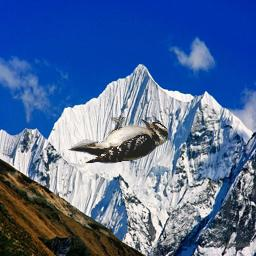Woodpecker: (67, 117, 175, 168)
